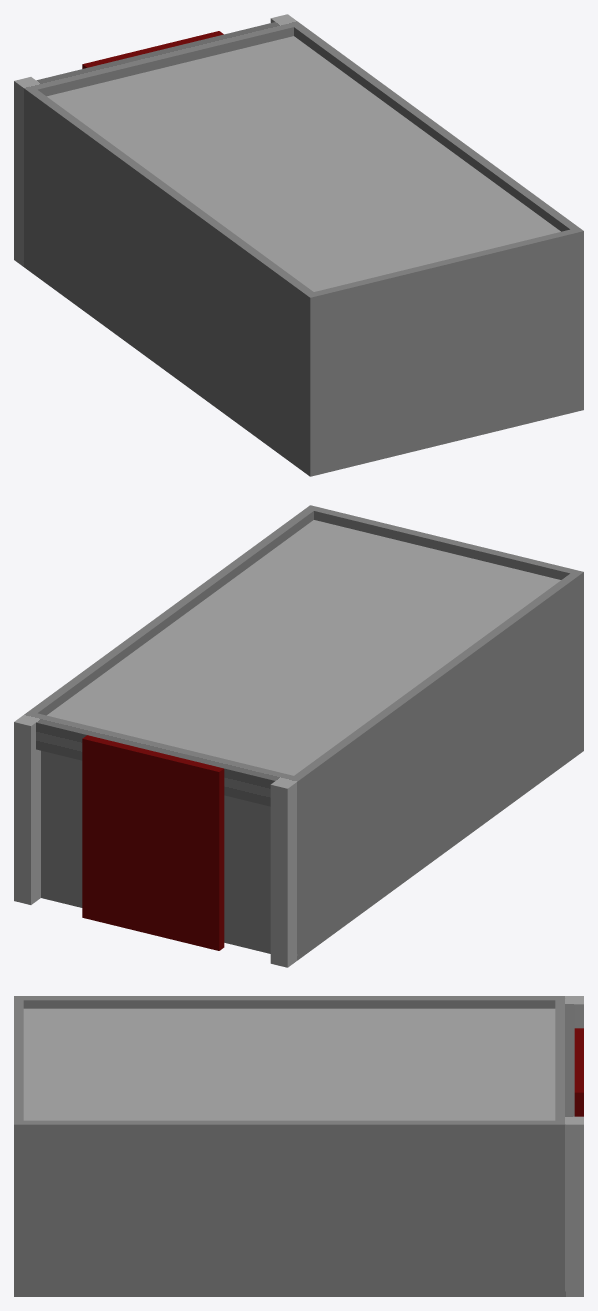
File: obj_story06b.fbx
3 views of the same model, one above another, from view 1: azimuth 30°, elevation 25°; view 2: azimuth 150°, elevation 25°; view 3: azimuth 270°, elevation 25° (orthographic). The views are drawn at different scales.
Parts seen in each view (by area): view 1: obj_story06b; view 2: obj_story06b; view 3: obj_story06b.
Part boxes in pixels (x1,y1,x2,y2): obj_story06b: [14, 14, 583, 476]; obj_story06b: [14, 505, 583, 967]; obj_story06b: [14, 996, 583, 1296].
Bounding box in the file's own units: 3.2 × 6 × 2.
1 material, 1 textured.
